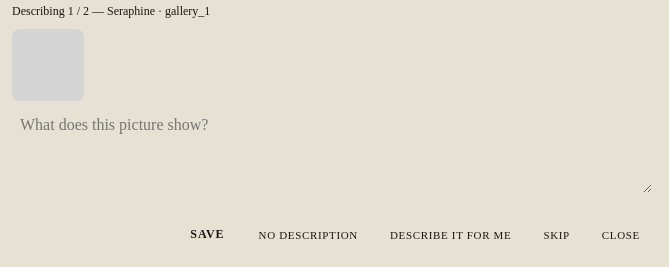
steps through the queue, saving each description against its own surface
The image size is (669, 267).
Check: the text "Describing 1 / 2 — Seraphine · gallery_1" is shown, box [12,4,210,18]
Type "Half-plate, rain-soaked." into the text box named "Description".
click(332, 152); type("Half-plate, rain-soaked.")  # box [12,111,652,193]
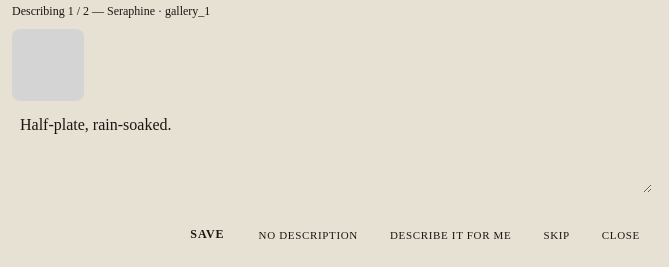
Click the button "Save".
click(207, 234)  # box [176,219,239,250]
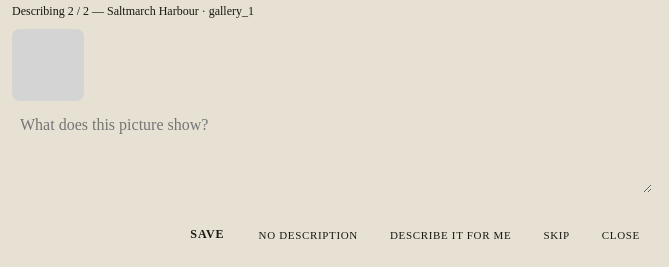
Check: the text "Describing 2 / 2 — Saltmarch Harbour · gallery_1" is shown, box [12,4,254,18]
Check: the text box named "Description" is empty
Type "Fishing boats under fog." into the text box named "Description".
click(332, 152); type("Fishing boats under fog.")  # box [12,111,652,193]
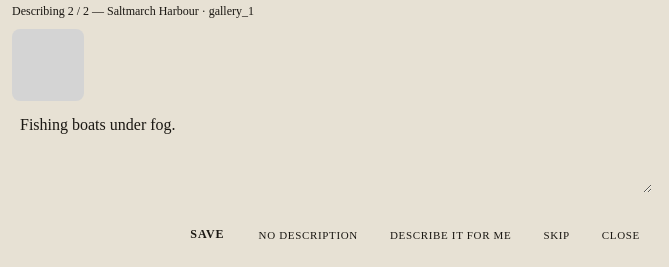
Click the button "Save".
click(207, 234)  # box [176,219,239,250]
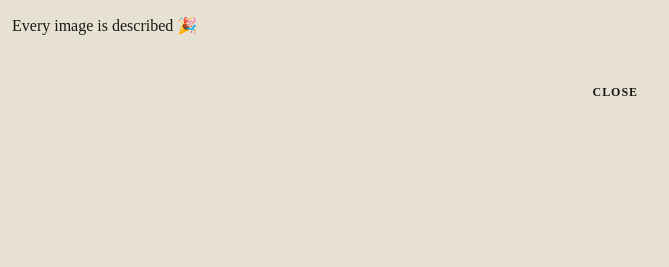
Check: the text "Every image is described 🎉" is shown, box [12,17,197,34]
